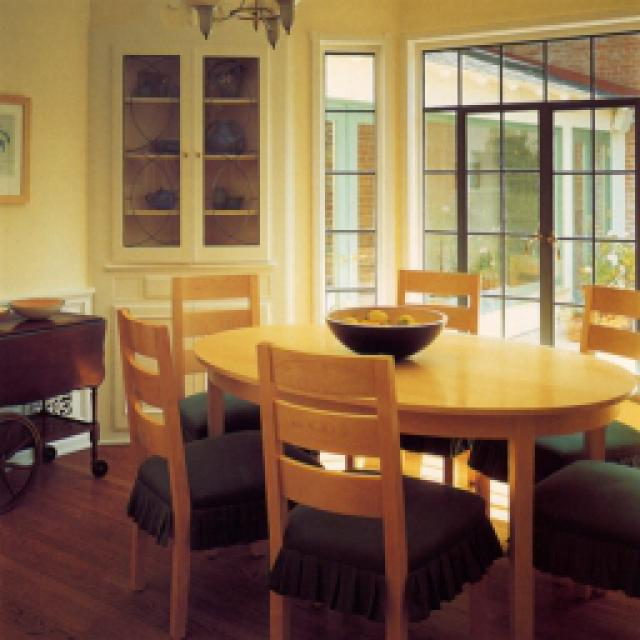2001: (418, 28, 640, 262), (322, 50, 378, 312)
2011: (418, 32, 640, 350)
bowl -X: (332, 302, 448, 360), (15, 298, 65, 318)
ceiling lamps: (190, 0, 300, 38)
chair: (578, 282, 640, 370), (398, 268, 480, 330)
chair -occluded-: (262, 342, 508, 635), (120, 305, 272, 635), (175, 272, 262, 438)
chair seat: (540, 458, 640, 594)
china cabinet: (110, 42, 278, 265)
doors crop: (465, 100, 638, 340)
painting crop: (5, 92, 32, 202)
side: (5, 308, 112, 505)
table -X: (198, 320, 640, 635)
